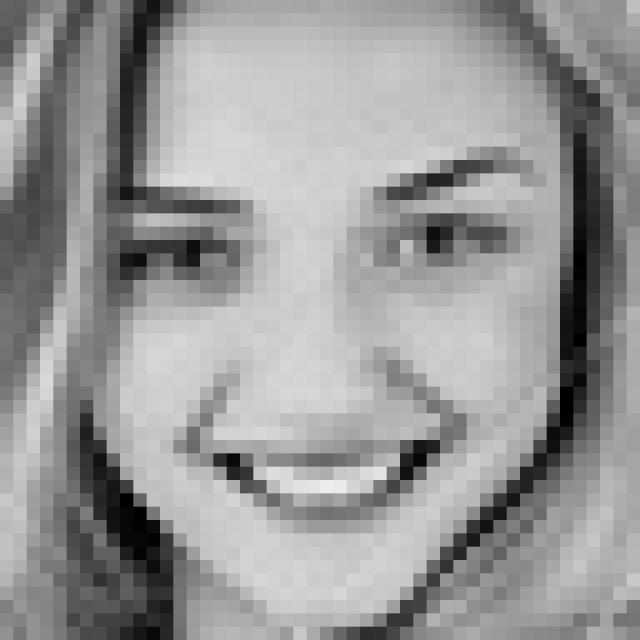happy: (117, 136, 539, 546)
